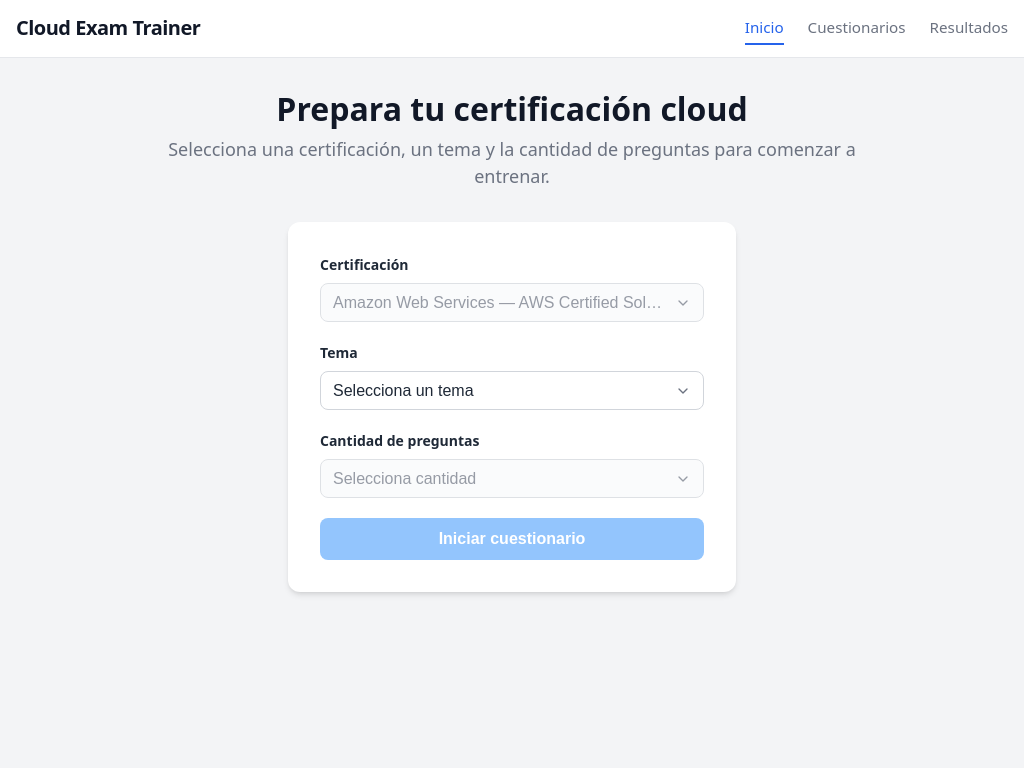
Scenario: Quiz setup › displays the number of available questions for the selected topic
The image size is (1024, 768).
Step 1. Select "Security" in the dropdown labelled "Tema" → (512, 391), box [320,371,704,410]
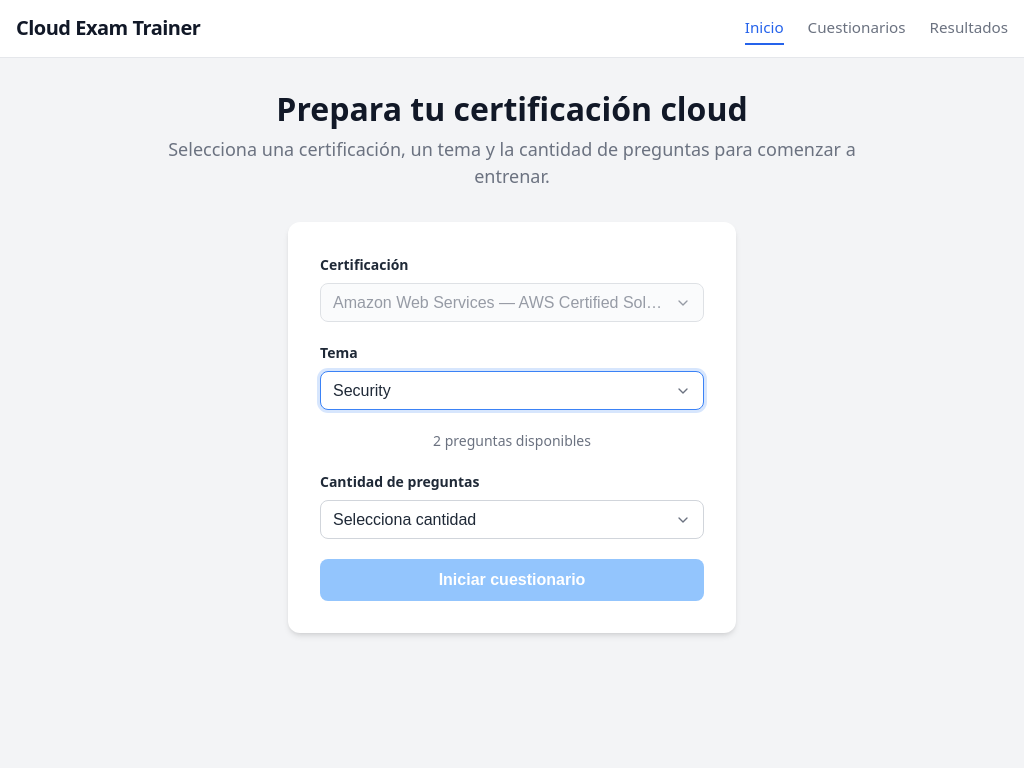
Check: the text "2 preguntas disponibles" is shown, box [433,431,591,450]
